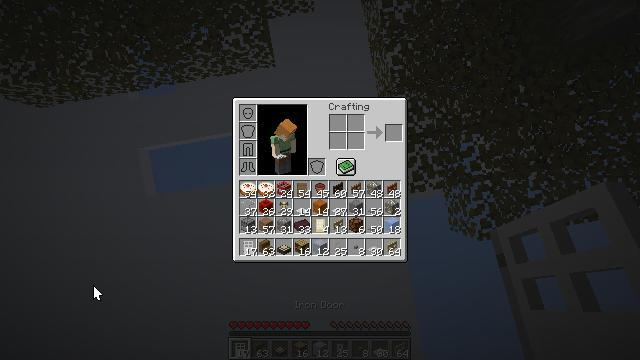cursor: (93, 285, 103, 301)
